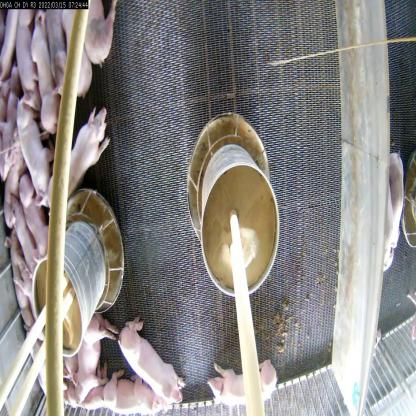Pig: (50, 101, 119, 230), (5, 85, 52, 209), (115, 323, 176, 416), (25, 7, 62, 147), (73, 305, 112, 415), (210, 365, 287, 414), (17, 183, 47, 270)
